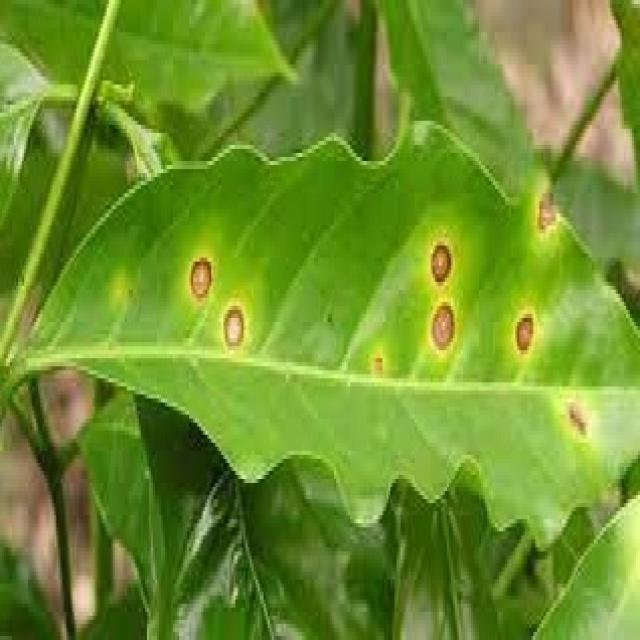Enfermedad-Mancha-de-hierro: (22, 121, 640, 555)
